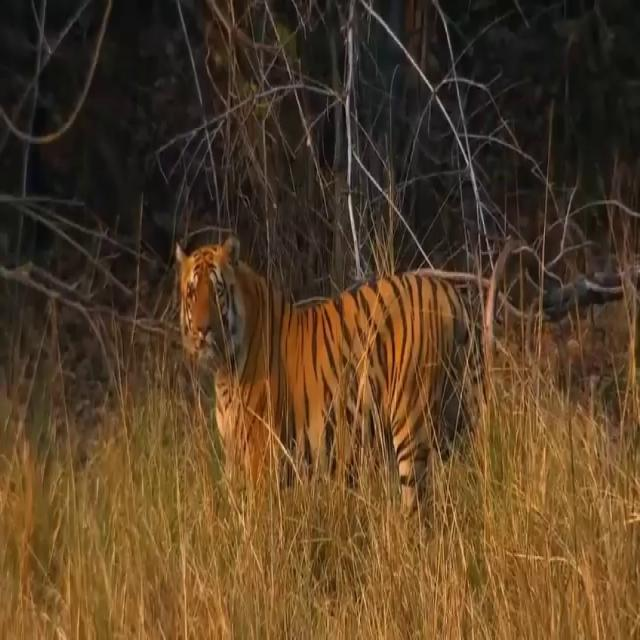tiger: (174, 232, 487, 568)
